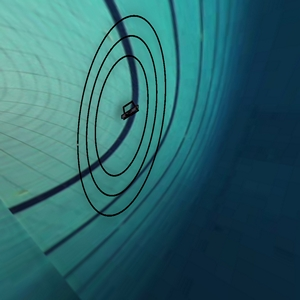circle: (68, 1, 185, 230)
submarine: (115, 93, 143, 123)
